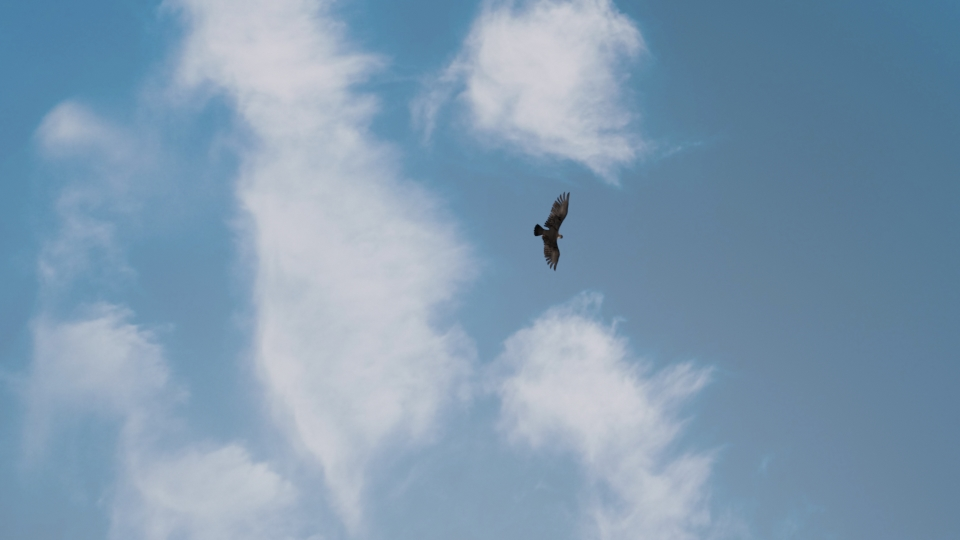bird: (533, 191, 573, 268)
